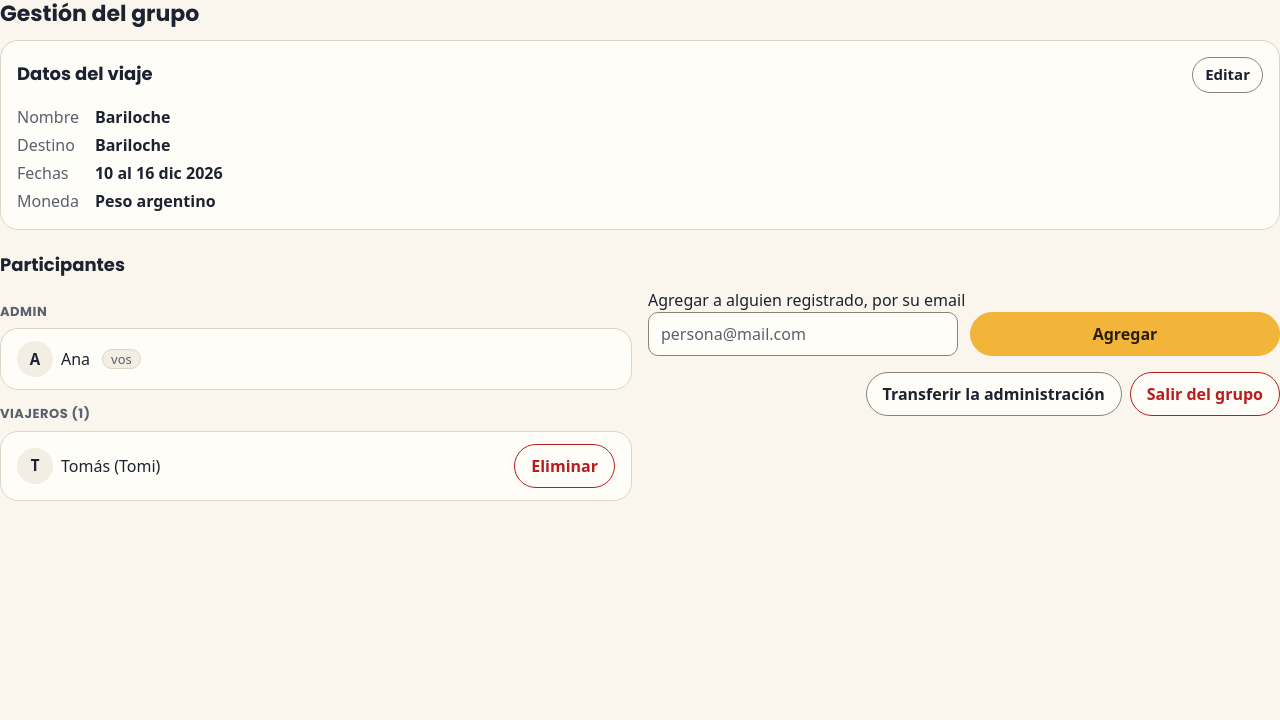
Test: ParticipantesVista › al eliminar a un participante, un doble clic manda un solo pedido
The width and height of the screenshot is (1280, 720).
What coordinates should you click on to do the following:
click the button "Eliminar"
I would click on:
 (565, 466)
Its box is [514,444,615,488].
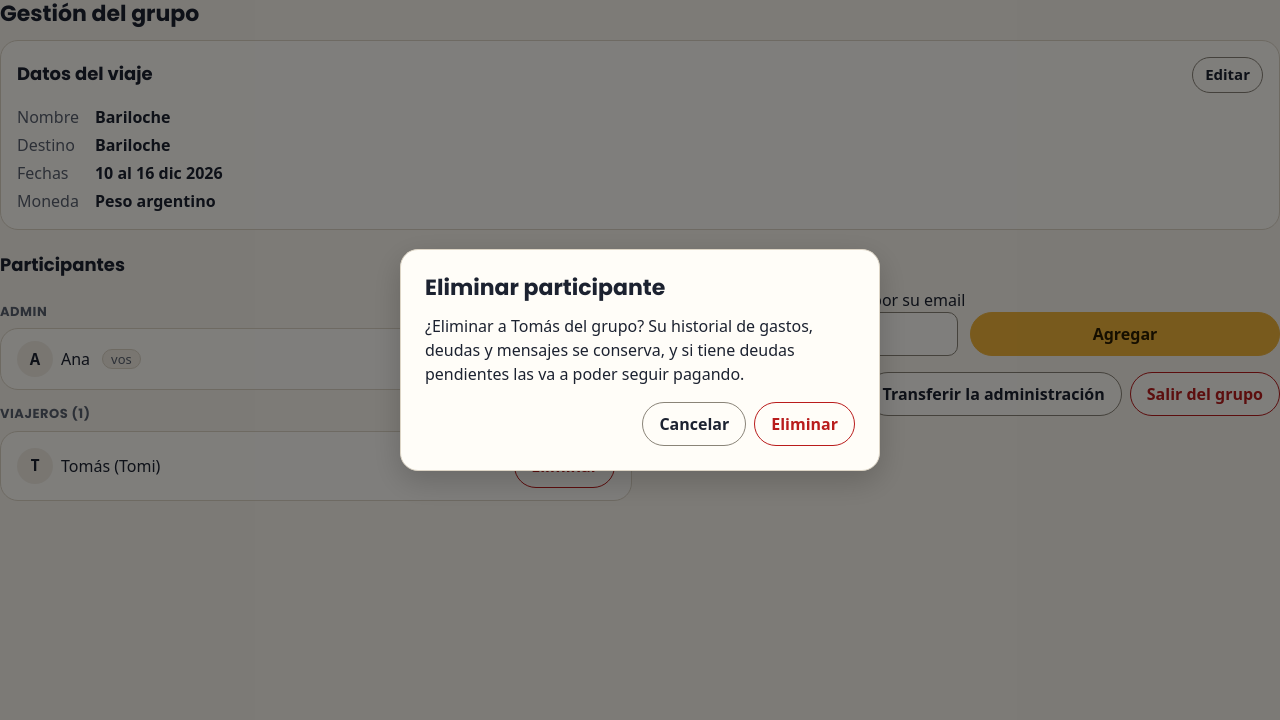
What coordinates should you click on to do the following:
click the button "Eliminar"
I would click on:
 (805, 424)
Its box is [754,402,855,446].
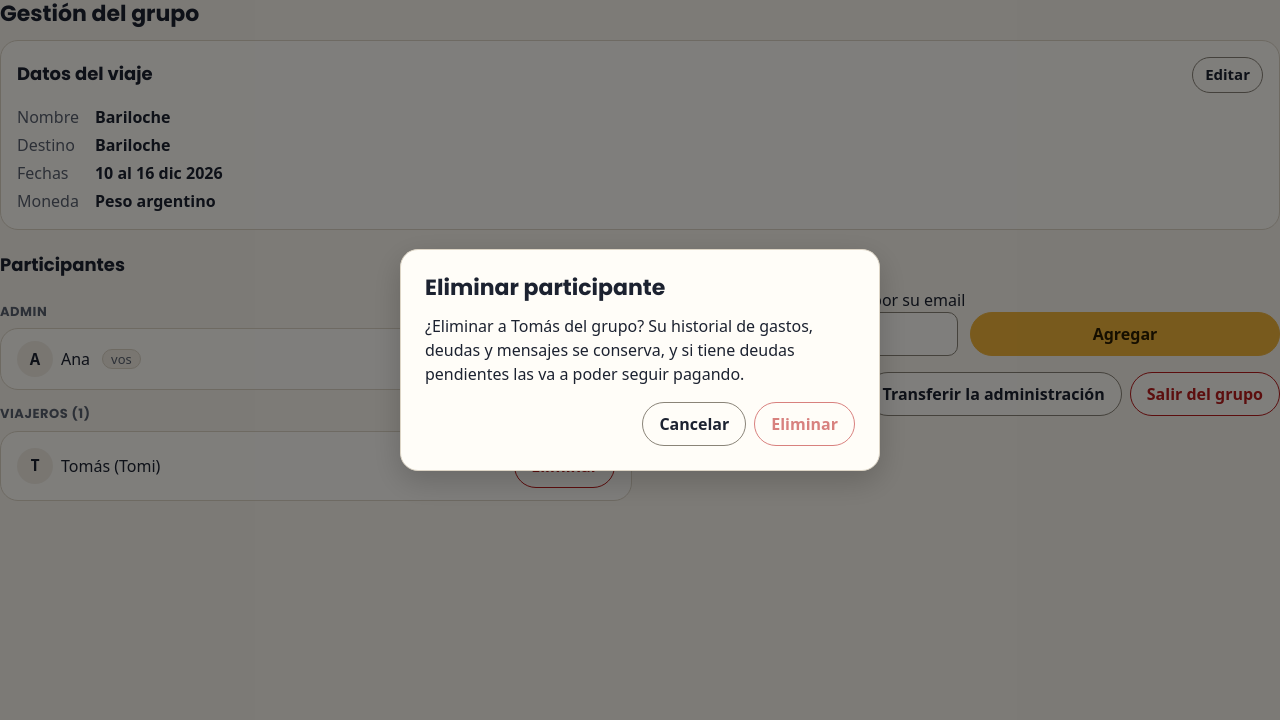
Expected: the button "Eliminar" is disabled
What coordinates should you click on to do the following:
click the button "Eliminar"
I would click on:
 (805, 424)
Its box is [754,402,855,446].
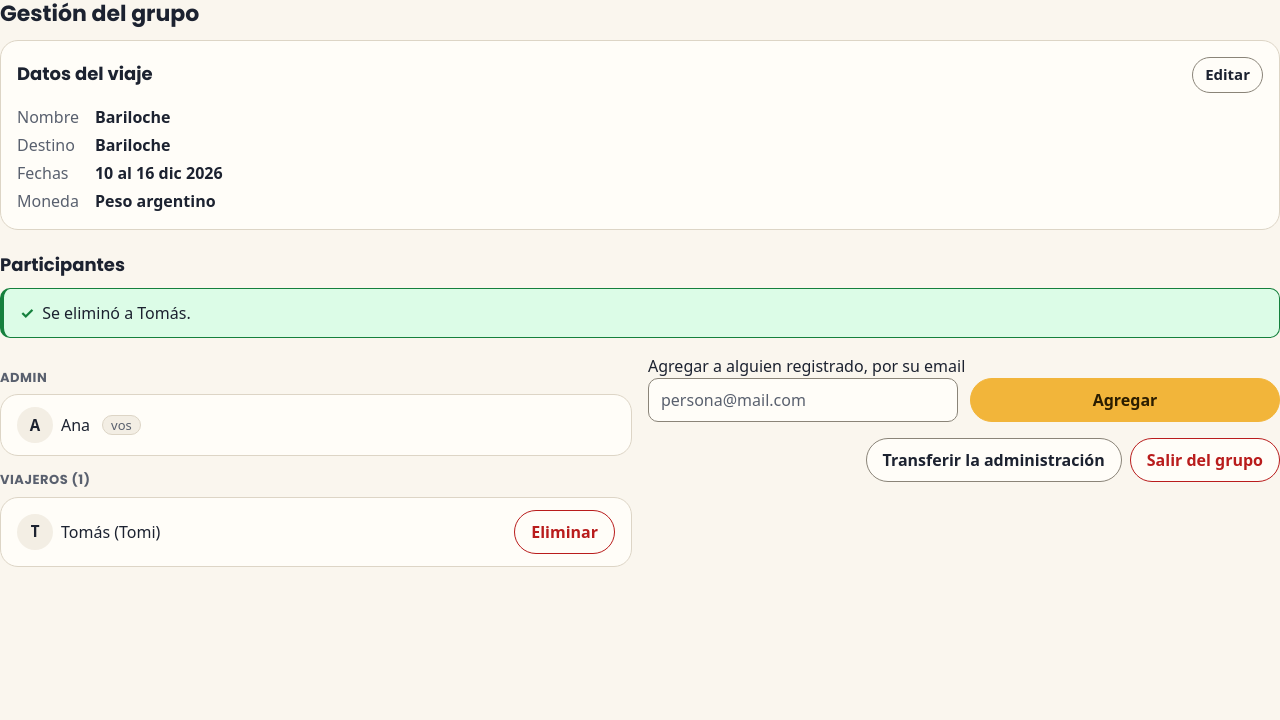
Expected: the text "Se eliminó a" is shown, [42,302,191,324]
